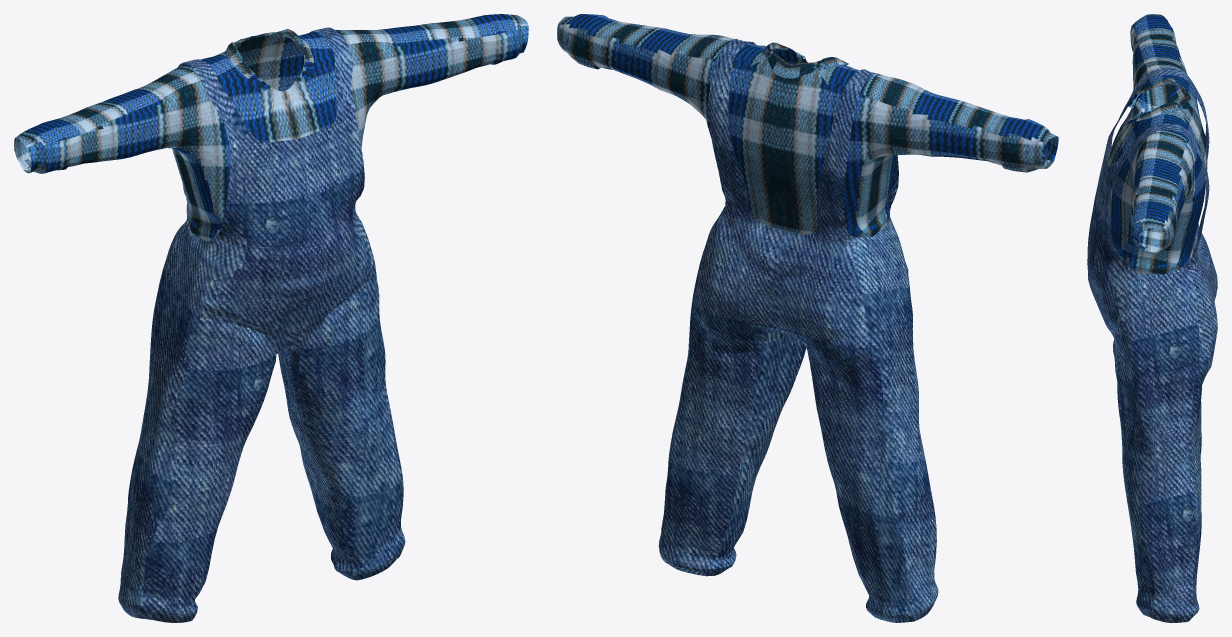
File: Shirt02.fbx
3 views of the same model, side by side, from view 1: azimuth 30°, elevation 25°; view 2: azimuth 150°, elevation 25°; view 3: azimuth 270°, elevation 25° (orthographic). The views are drawn at different scales.
Parts seen in each view (by area): view 1: Touser, Shirt; view 2: Touser, Shirt; view 3: Touser, Shirt.
Part boxes in pixels (x1,y1,x2,y2): Touser: (118,27,405,622); Shirt: (14,14,528,241); Touser: (658,39,938,622); Shirt: (557,14,1058,237); Touser: (1087,68,1217,622); Shirt: (1106,14,1207,274).
Size of the model in its own units: 155 by 163 by 39.8.
Materials: 2 (2 with a texture image).
